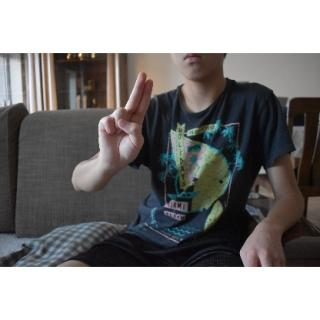TA: (94, 68, 158, 178)
